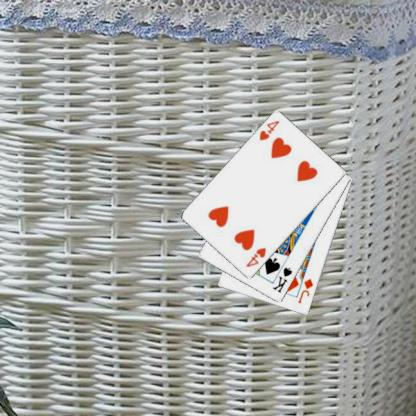4H: (243, 245, 268, 269), (256, 118, 281, 142)
JD: (294, 276, 314, 305)
KS: (270, 264, 294, 294)
